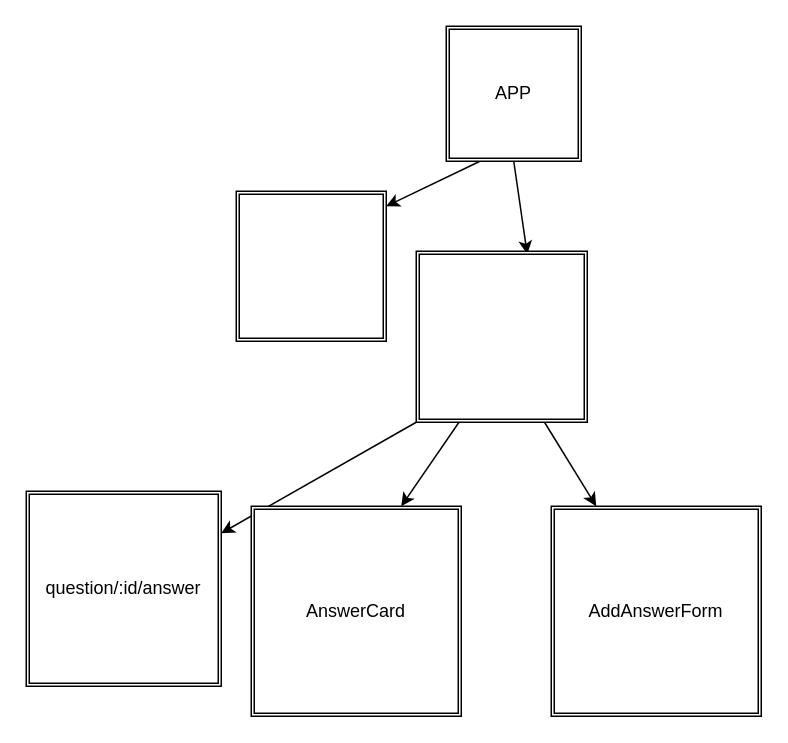
Some shapes in this 788 by 743 pixel diagram are drawn without their labels. Each missing label, with the centre of its shape:
"AnswerPage" goes at point (501, 336).
"Visi kiti (ju daug)" goes at point (310, 265).
